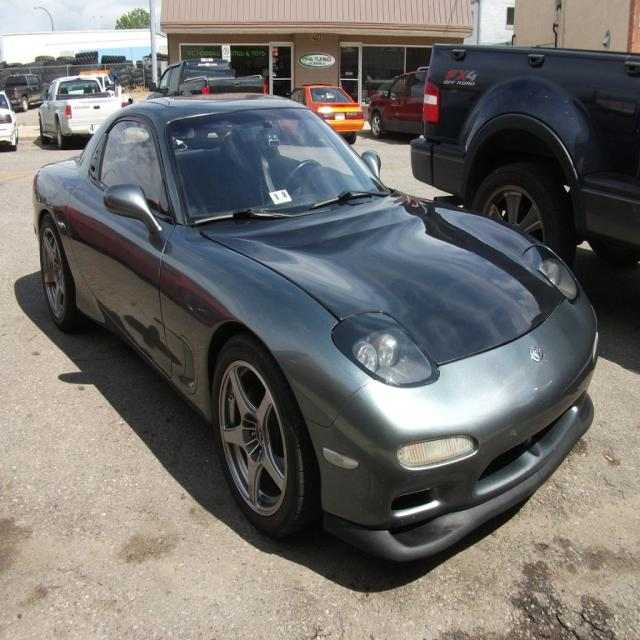car: (27, 85, 601, 565)
